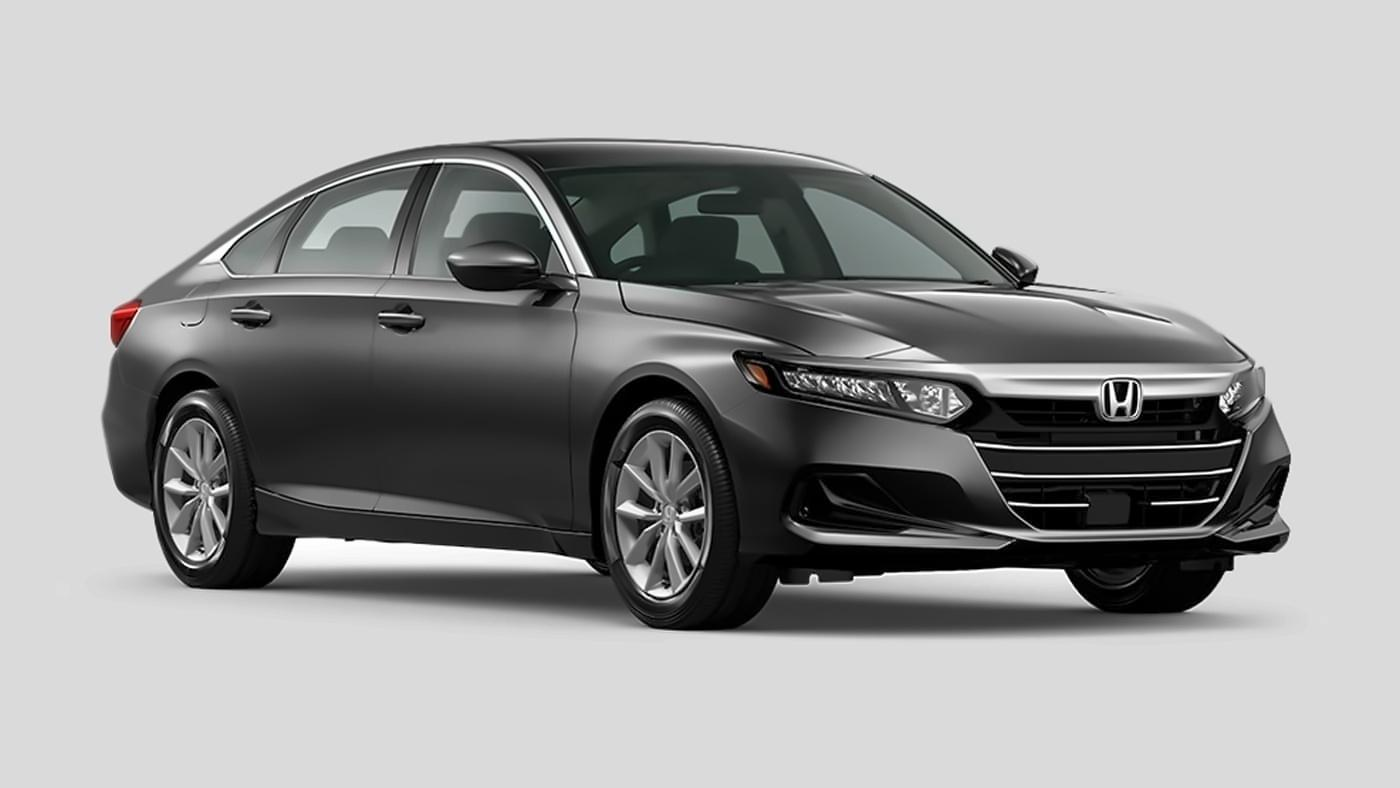Car hood: (613, 270, 1322, 373)
Driver-s door - -F-R-: (369, 148, 575, 525)
Fender - -F-R-: (548, 273, 812, 560)
Fender - -R-R-: (117, 268, 263, 555)
Front bumper: (715, 405, 1308, 575)
Headlight - -L-: (1195, 348, 1292, 434)
Headlight - -R-: (715, 330, 1001, 434)
Passenger-s door - -R-R-: (235, 155, 390, 508)
Rear bumper: (93, 353, 167, 527)
Rear light - -R-: (100, 283, 151, 352)
Side bumper - -R-: (228, 477, 608, 588)
Side mirror - -L-: (965, 233, 1053, 302)
Side mirror - -R-: (438, 213, 578, 316)
